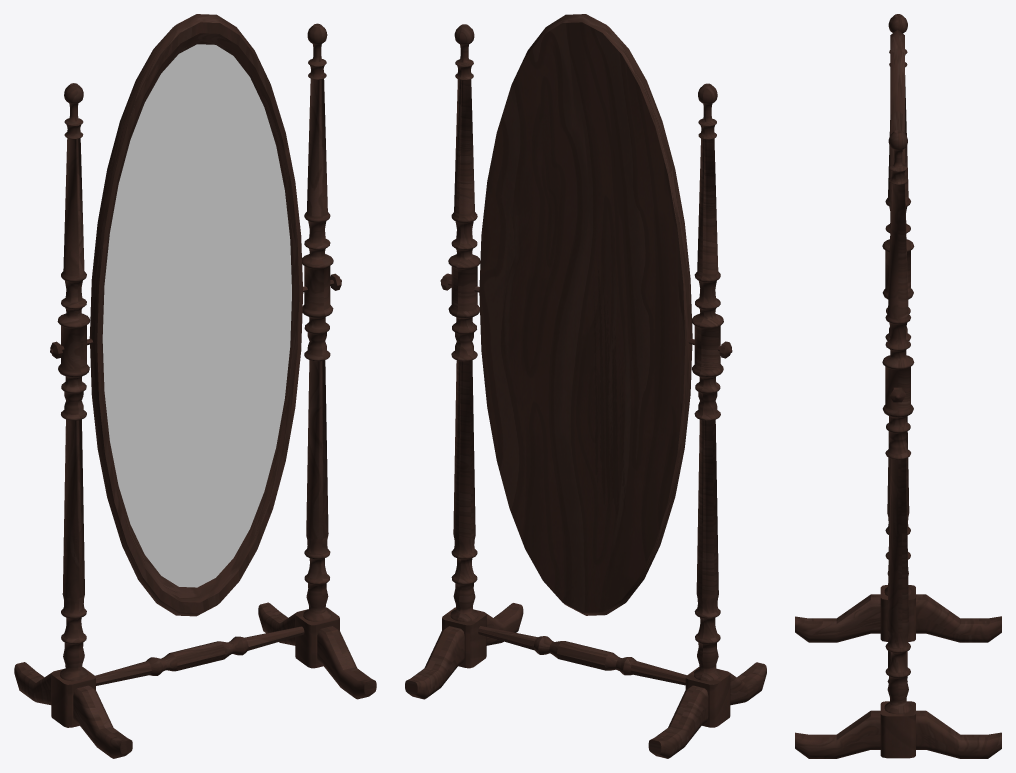
File: Ayna01.fbx
3 renders of one model, left to right at view 1: azimuth 30°, elevation 25°; view 2: azimuth 150°, elevation 25°; view 3: azimuth 270°, elevation 25°, orthographic. The views are drawn at different scales.
Parts seen in each view (by area): view 1: ayna, alt birleşim; view 2: ayna, alt birleşim; view 3: alt birleşim, ayna.
Part boxes in pixels (x1,y1,x2,y2): ayna: [89, 14, 303, 616]; alt birleşim: [14, 23, 376, 758]; ayna: [479, 14, 692, 615]; alt birleşim: [405, 24, 766, 758]; alt birleşim: [795, 14, 1001, 758]; ayna: [890, 29, 904, 440].
Bounding box in the file's own units: 47.84 × 107 × 30.19.
